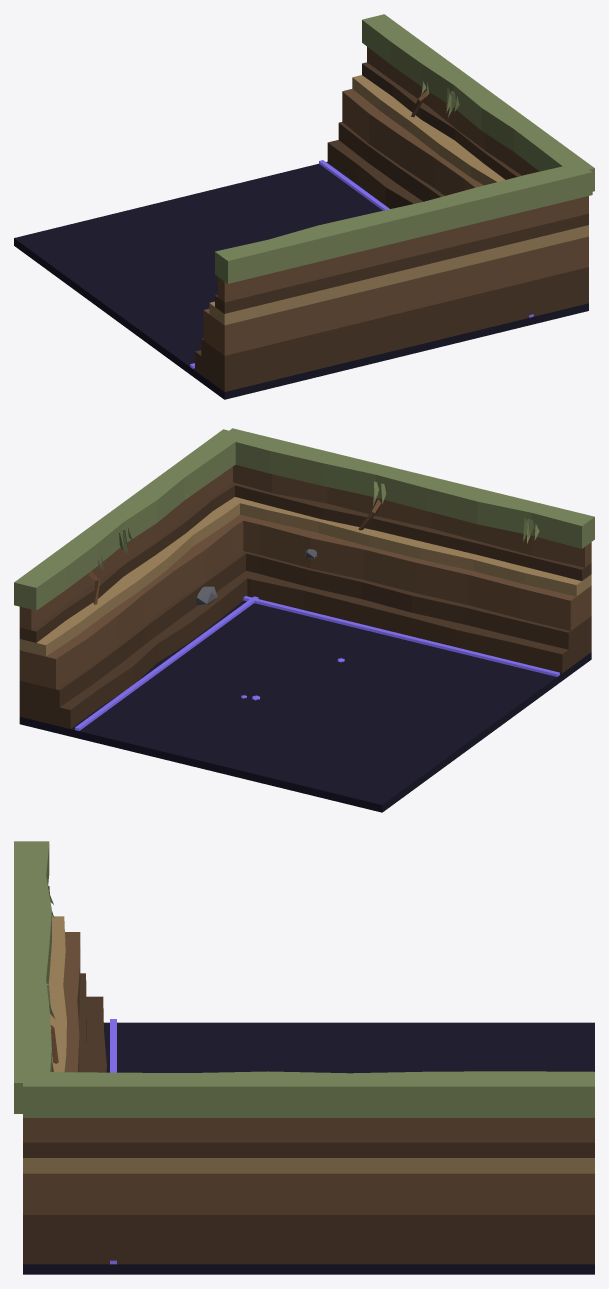
File: Chasm 2 Corner.fbx
3 renders of one model, top to bottom at view 1: azimuth 30°, elevation 25°; view 2: azimuth 150°, elevation 25°; view 3: azimuth 270°, elevation 25°, orthographic. The views are drawn at different scales.
Parts seen in each view (by area): view 1: Chasm 2 Corner; view 2: Chasm 2 Corner; view 3: Chasm 2 Corner.
Boxes of the visible parts, box(x1,y1,x2,y2) form: Chasm 2 Corner: box(14, 14, 594, 399); Chasm 2 Corner: box(14, 428, 594, 812); Chasm 2 Corner: box(14, 841, 594, 1274).
Size of the model in its own units: 1.02 by 0.37 by 1.02.
